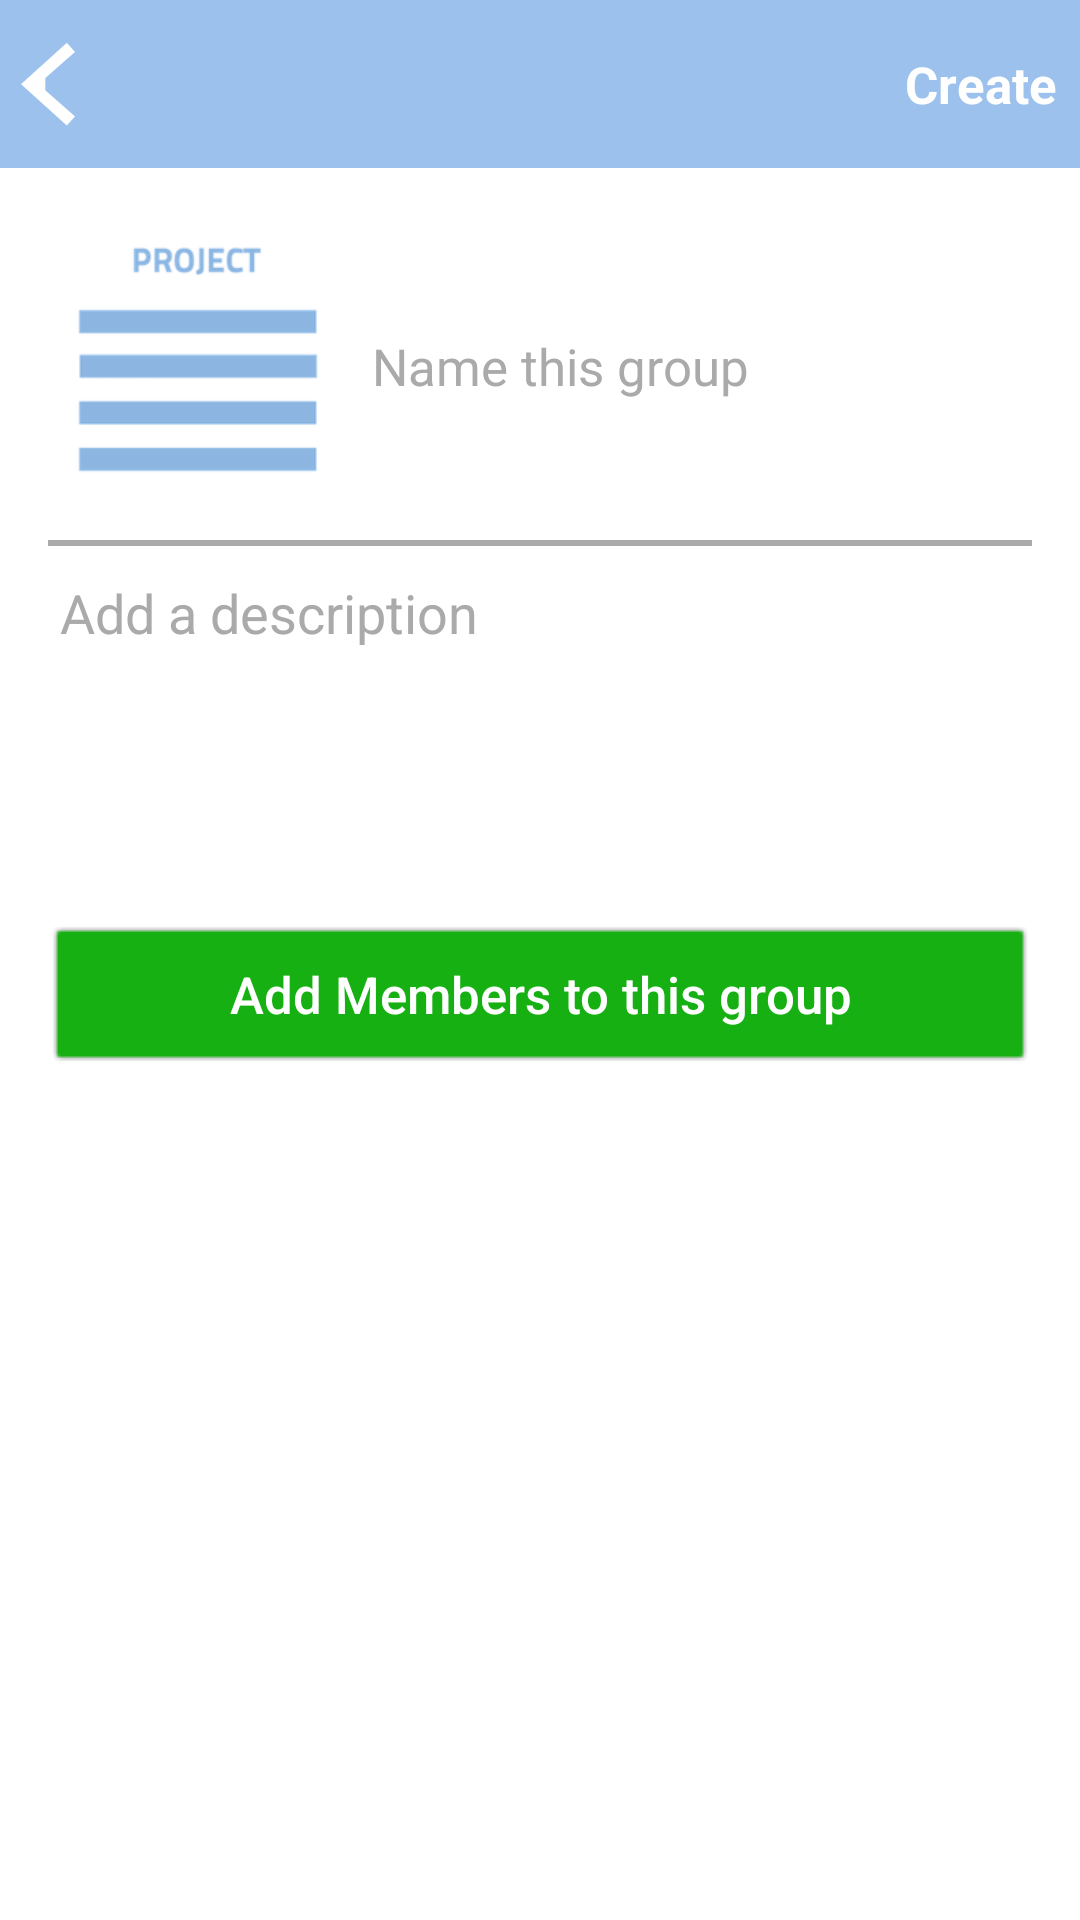

Point at icon controls on the screen. Image size 1080x1920, points as [x,y].
back: [48,84]
